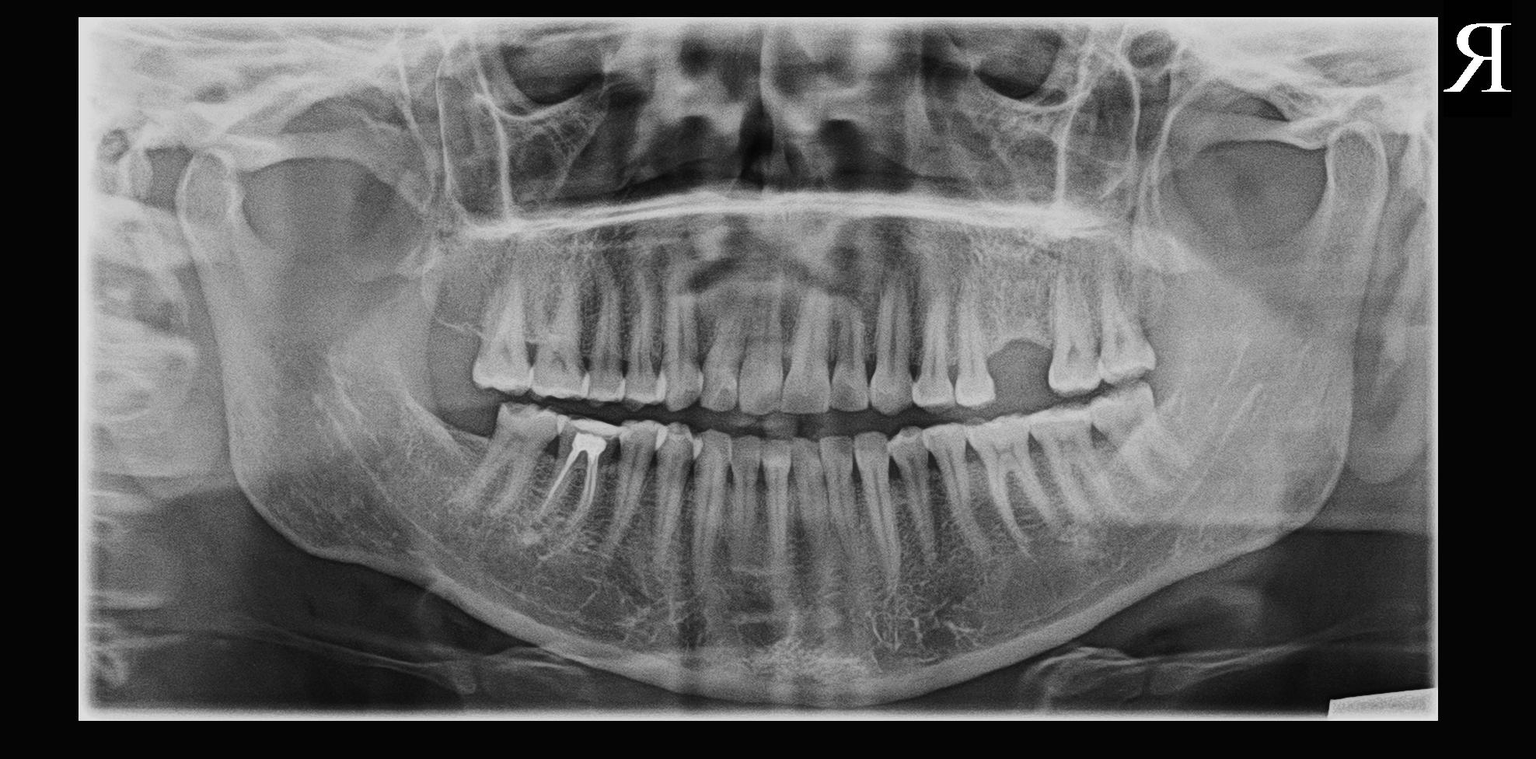Premolars: (547, 198, 1536, 600), (367, 216, 1075, 642), (349, 212, 1028, 631), (572, 171, 1536, 457), (276, 201, 799, 596), (293, 173, 878, 474)
